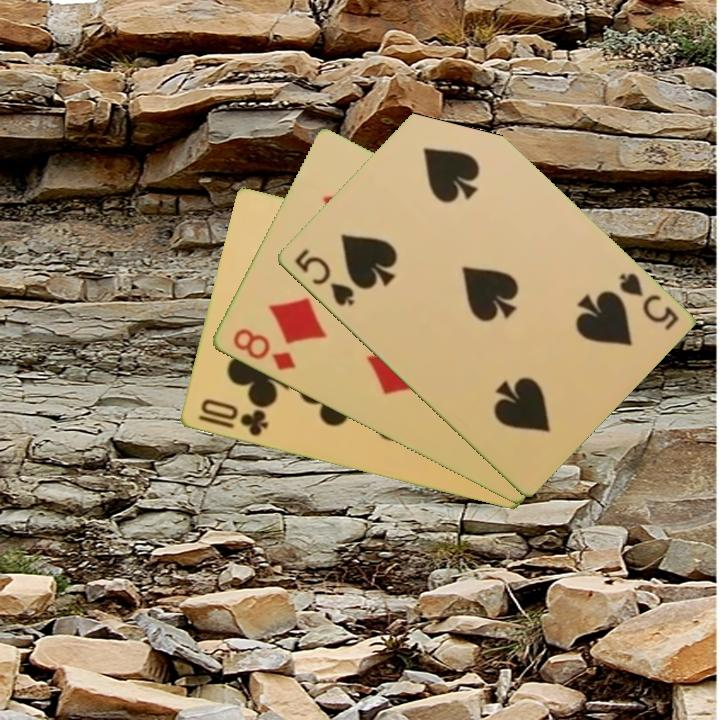10c: (197, 395, 271, 440)
5s: (290, 245, 357, 310), (615, 269, 681, 334)
8d: (228, 325, 298, 374)
